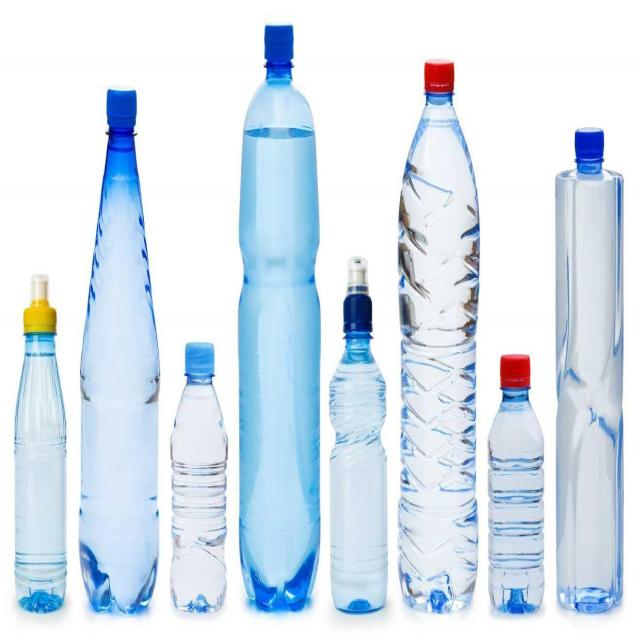plastic_bottle: (238, 15, 322, 615), (77, 77, 166, 621), (398, 56, 481, 615), (554, 124, 633, 611), (327, 252, 394, 615), (7, 271, 72, 622), (168, 336, 232, 618), (485, 345, 550, 613)
